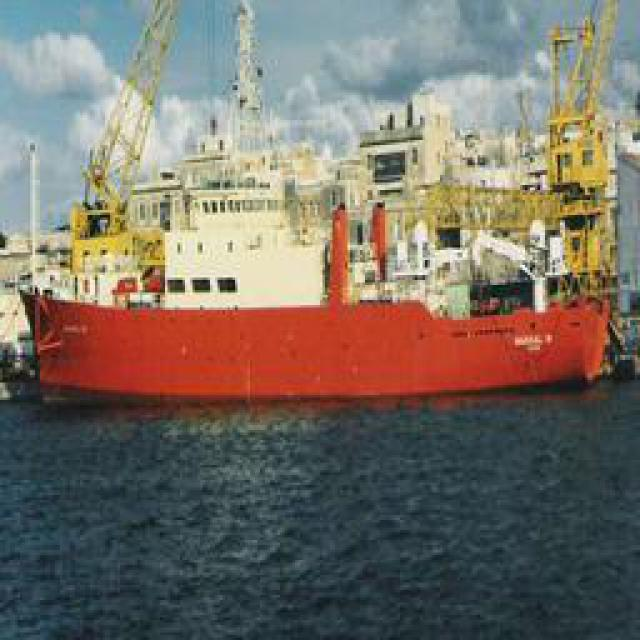Ship: (25, 1, 618, 399)
